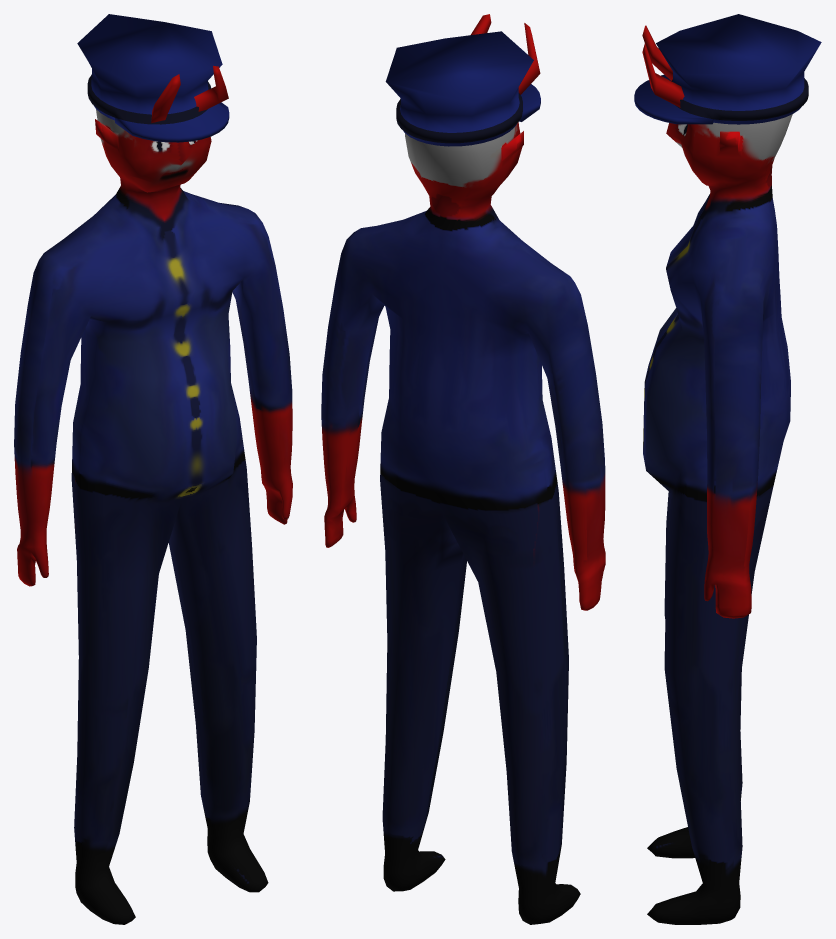
File: Demon_Police 2.fbx
3 renders of one model, left to right at view 1: azimuth 30°, elevation 25°; view 2: azimuth 150°, elevation 25°; view 3: azimuth 270°, elevation 25°, orthographic. The views are drawn at different scales.
Parts seen in each view (by area): view 1: Police; view 2: Police; view 3: Police.
Boxes of the visible parts, bbox=[...] form: Police: bbox=[14, 14, 292, 924]; Police: bbox=[321, 14, 605, 924]; Police: bbox=[634, 14, 821, 924].
Bounding box in the file's own units: 135 × 404 × 80.17.
